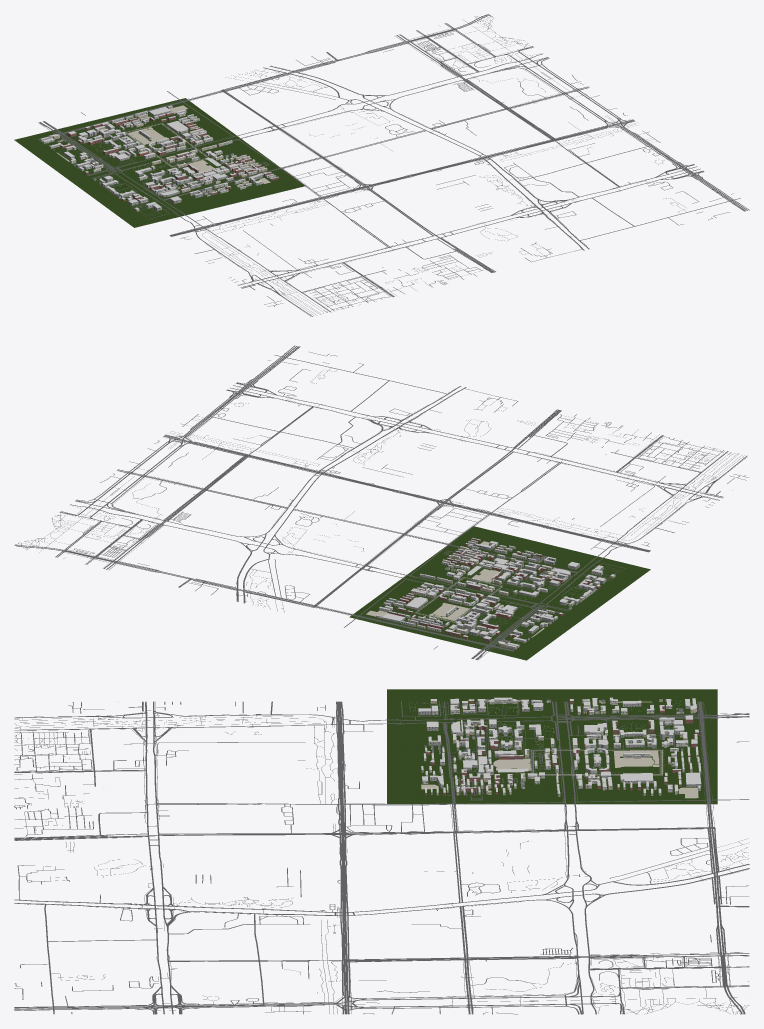
The model's file is bmu-campus.glb.
The picture shows the model from 3 angles, top to bottom: view 1: azimuth 30°, elevation 25°; view 2: azimuth 150°, elevation 25°; view 3: azimuth 270°, elevation 25°; orthographic projection. The views are drawn at different scales.
Visible parts, largest first — view 1: street, ground, trim, wall0, wall2, wall1, wall3, paved, green; view 2: street, ground, trim, wall0, wall2, wall1, wall3, paved, green; view 3: street, ground, trim, wall0, wall2, paved, wall1, green, roof, wall3.
Part boxes in pixels (x1,y1,x2,y2): street: [38, 14, 749, 316]; ground: [14, 98, 305, 227]; trim: [41, 105, 278, 209]; wall0: [40, 106, 276, 208]; wall2: [64, 111, 262, 210]; wall1: [60, 112, 279, 201]; wall3: [49, 114, 267, 211]; paved: [56, 105, 270, 183]; green: [45, 140, 192, 192]; street: [14, 345, 749, 659]; ground: [349, 526, 650, 660]; trim: [376, 538, 614, 647]; wall0: [376, 540, 602, 649]; wall2: [382, 544, 606, 637]; wall1: [389, 538, 600, 642]; wall3: [406, 547, 615, 647]; paved: [366, 541, 544, 637]; green: [444, 573, 583, 646]; street: [14, 701, 749, 1014]; ground: [387, 689, 717, 804]; trim: [418, 697, 701, 793]; wall0: [421, 698, 701, 796]; wall2: [418, 699, 701, 788]; paved: [421, 701, 698, 798]; wall1: [425, 700, 698, 795]; green: [469, 701, 683, 771]; roof: [418, 698, 700, 793]; wall3: [430, 699, 696, 795].
Size of the model in its own units: 3960 by 35.1 by 3786.
15 materials, 9 textured.
